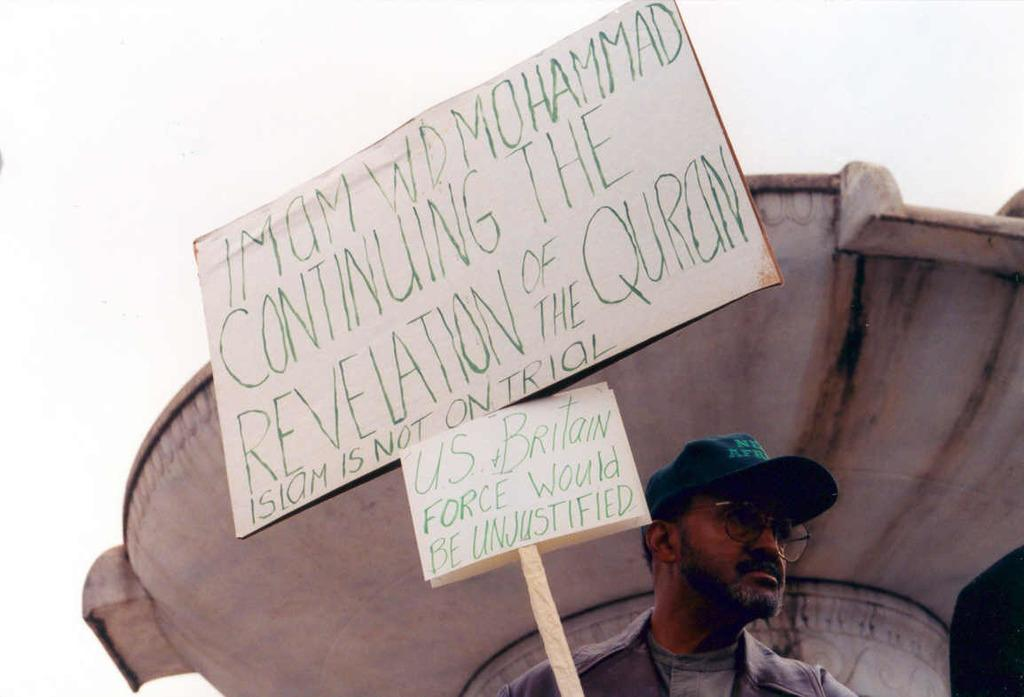Sem Máscara: (668, 486, 781, 616)
